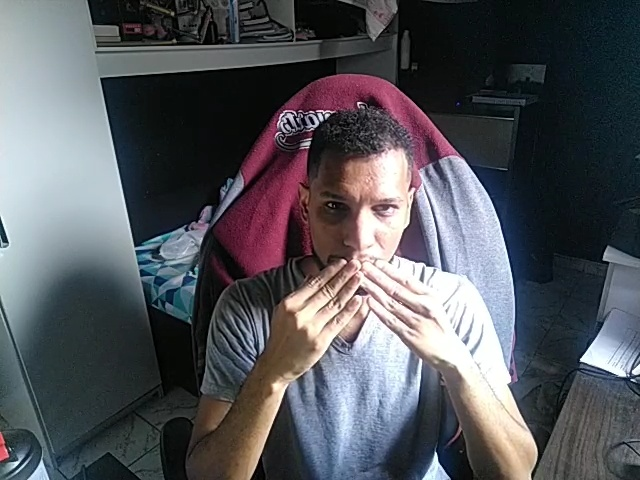obrigado: (266, 252, 447, 377)
